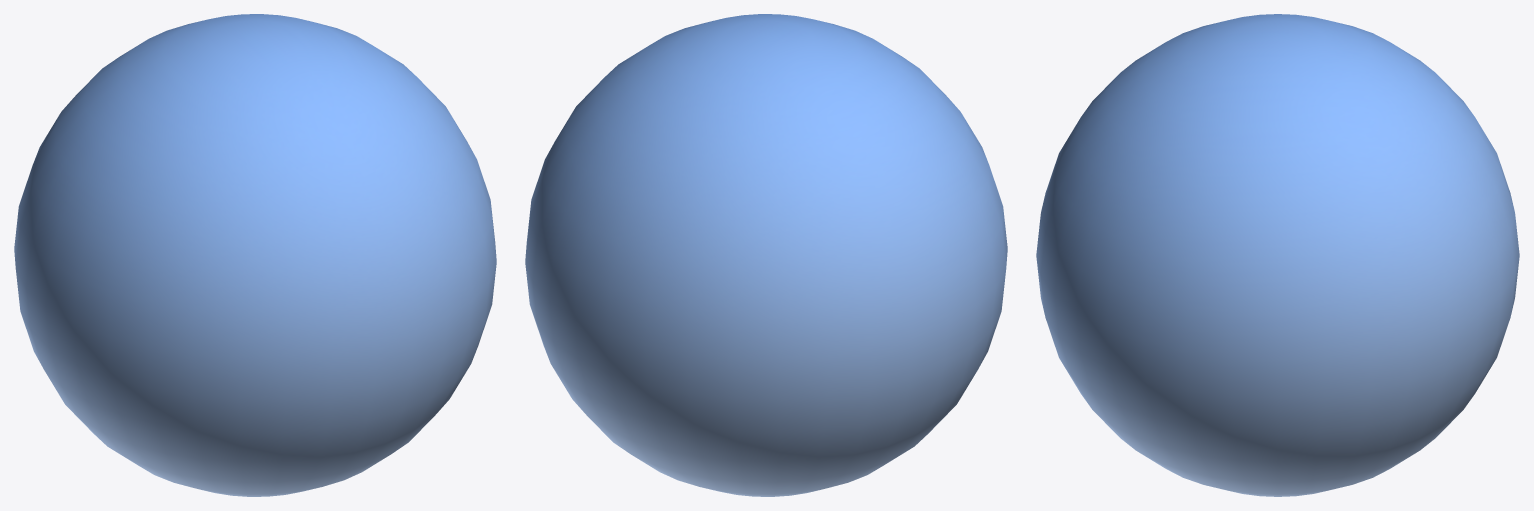
The model's file is Arrow.FBX.
3 views of the same model, side by side, from view 1: azimuth 30°, elevation 25°; view 2: azimuth 150°, elevation 25°; view 3: azimuth 270°, elevation 25° (orthographic).
Visible parts, largest first — view 1: Sphere001; view 2: Sphere001; view 3: Sphere001.
Boxes of the visible parts, box(x1,y1,x2,y2) form: Sphere001: box(14, 14, 496, 496); Sphere001: box(525, 14, 1007, 496); Sphere001: box(1036, 14, 1519, 496).
Bounding box in the file's own units: 55.32 × 55.32 × 55.32.
Materials: 2 (2 with a texture image).
